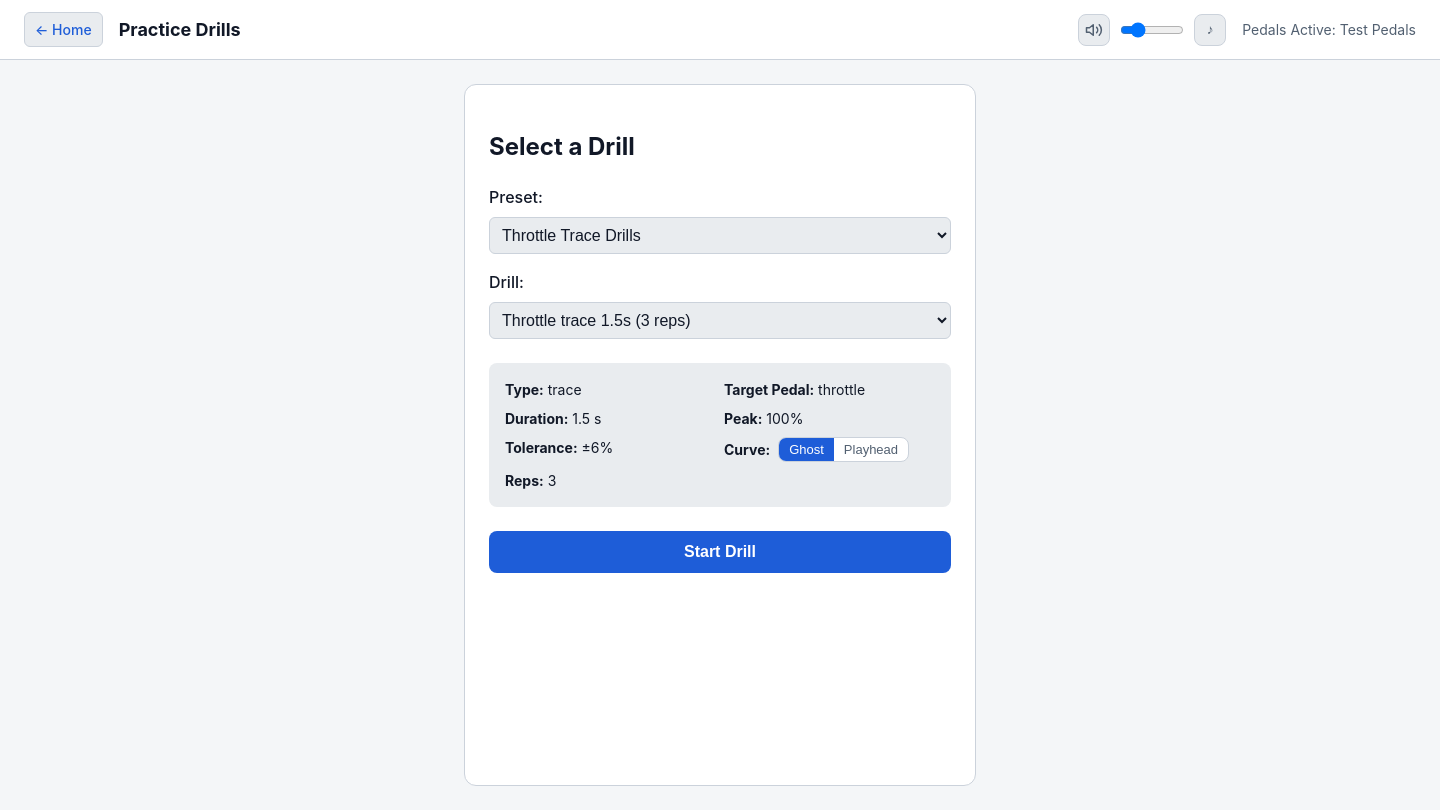
Drill page › shows throttle value for a throttle trace drill in trace HUD
The image size is (1440, 810).
Click the button "Start Drill" at coordinates (720, 552), box [489,531,951,573]
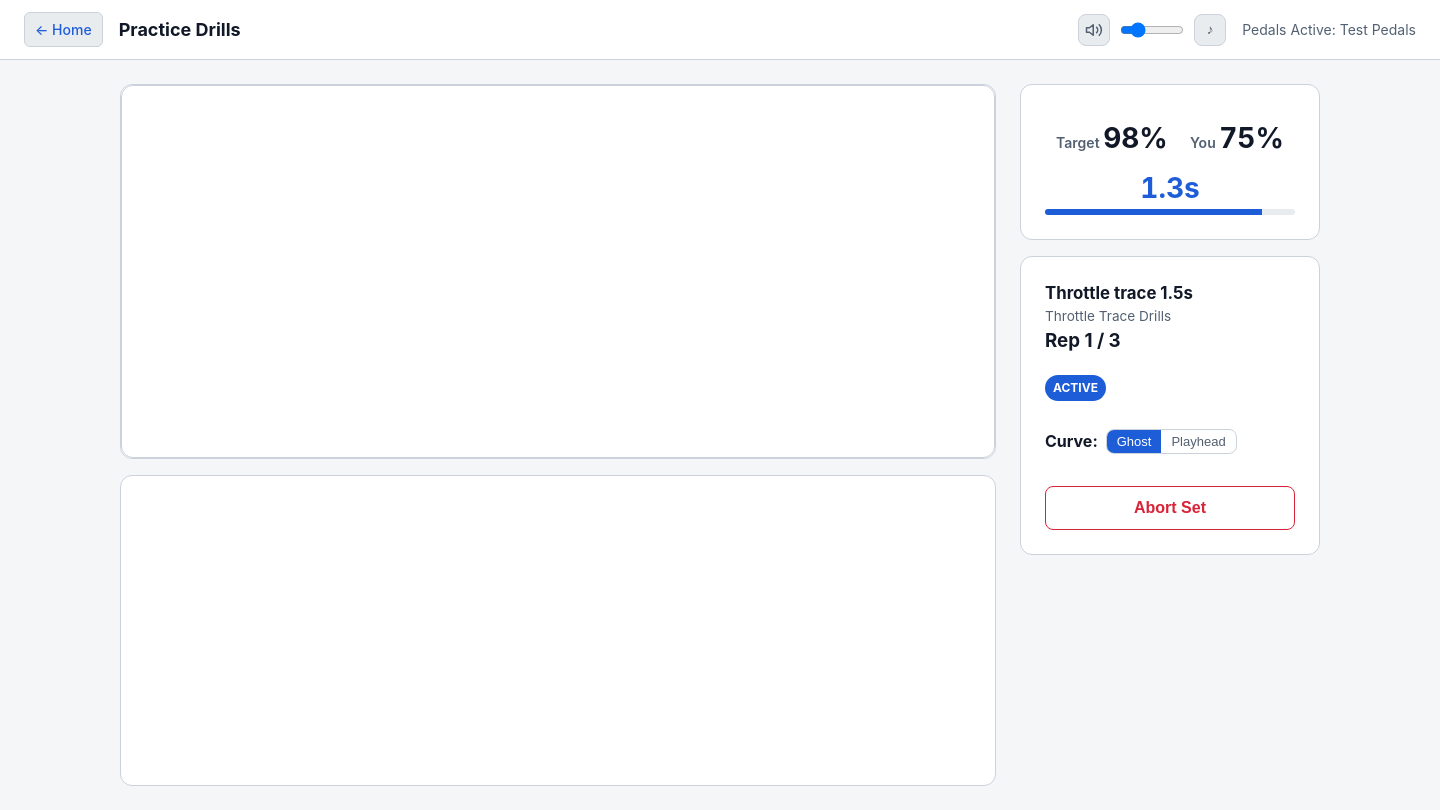
Expected: the element with test id "trace-hud" does not show "You 15%", [1020,84,1320,240]
Result: the element with test id "trace-hud" shows "You 75%" at [1020,84,1320,240]
